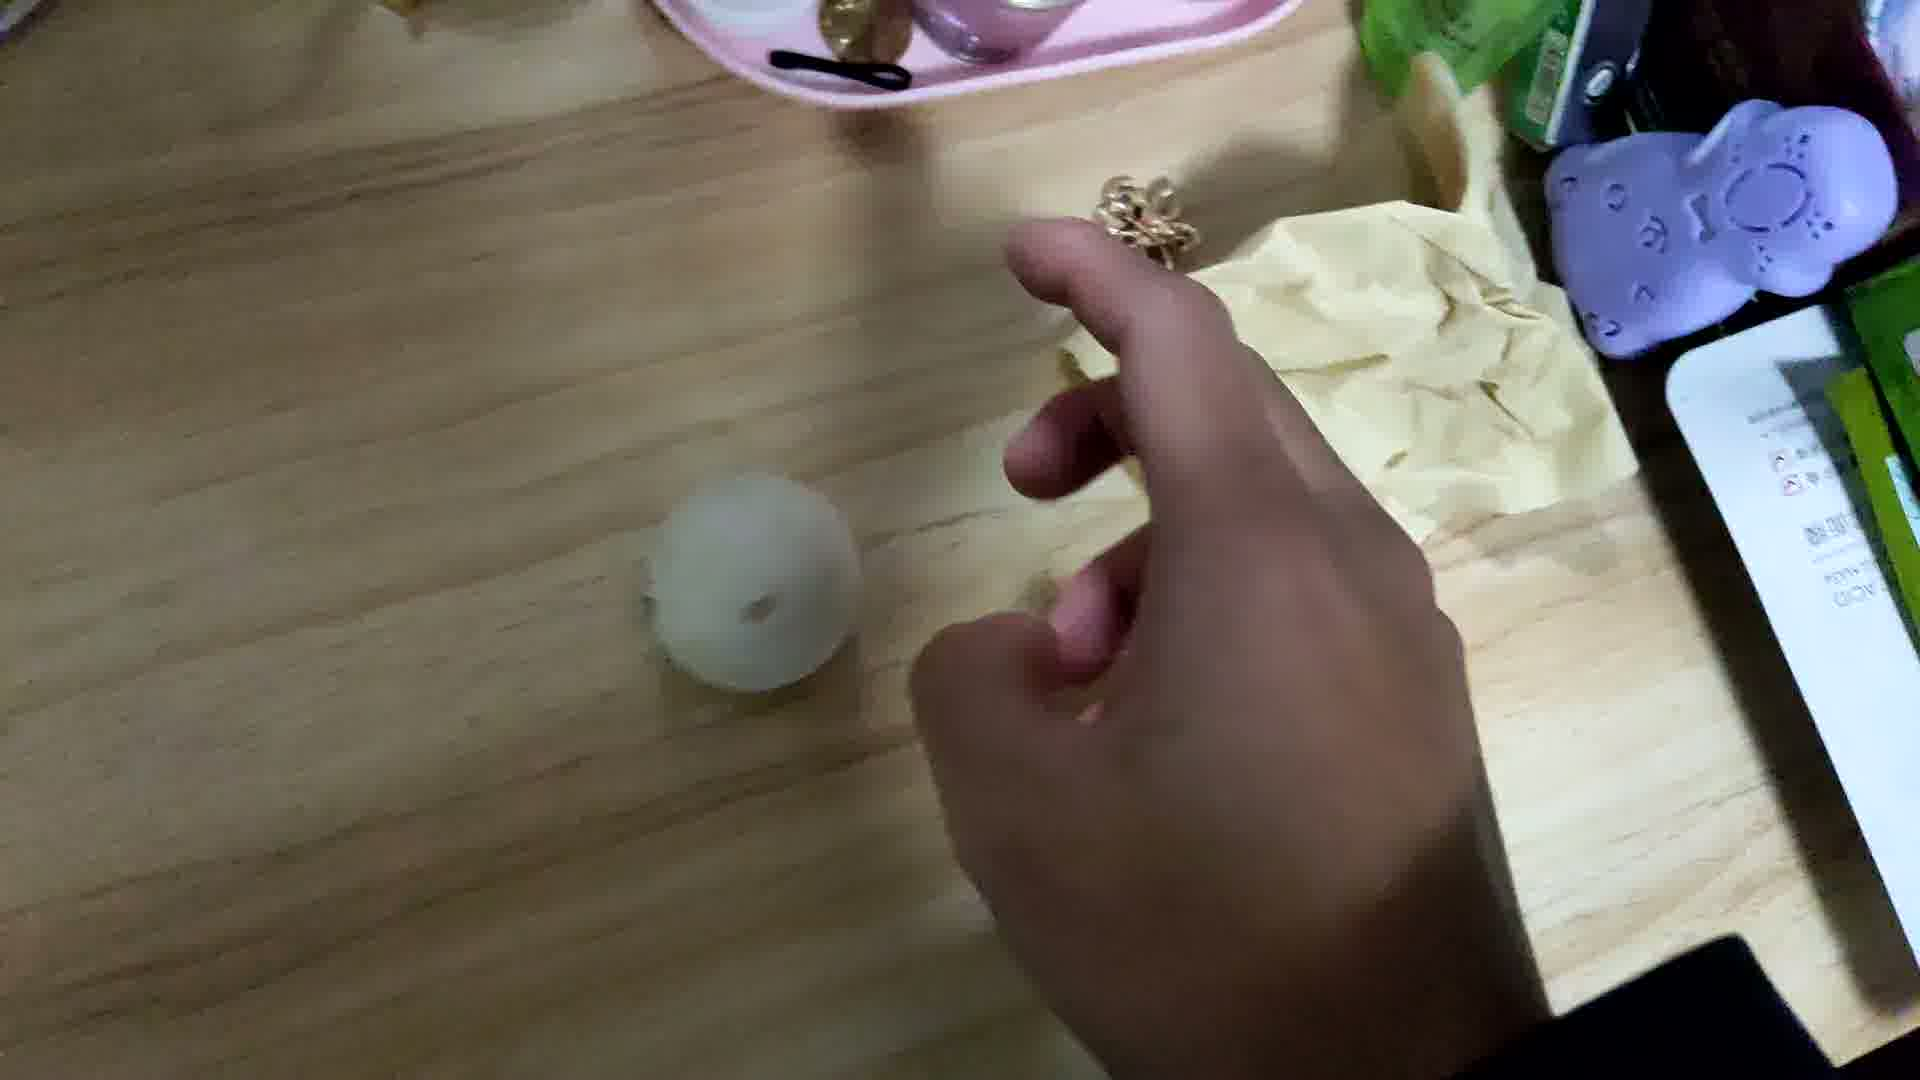Ball: (644, 471, 862, 690)
